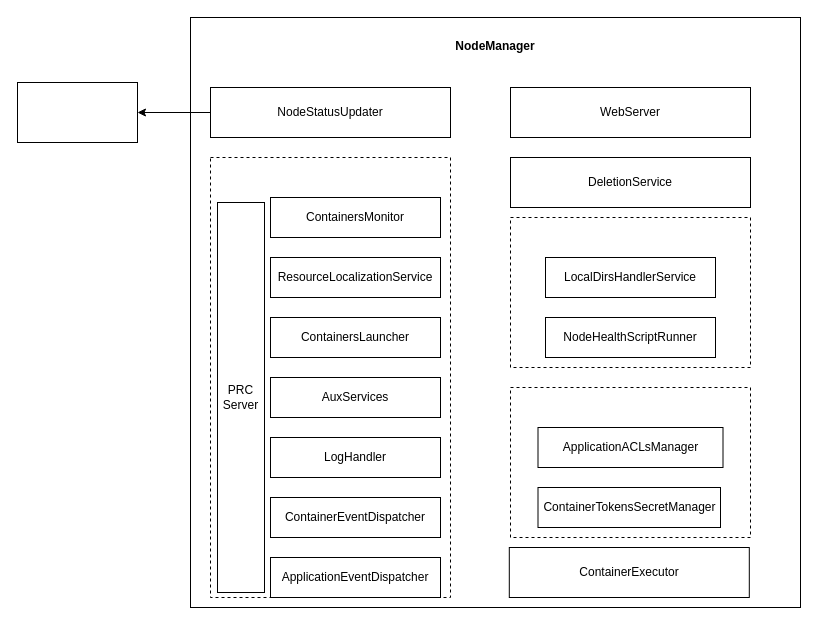
Image size: 818x625. Some labels were removed from this diagram. The box of each missing label's shape, as (x1, y1, x2, y2) in pixels:
ContainerManager: (210, 156, 450, 598)
NodeHealthCheckService: (510, 216, 750, 368)
ResourceManager: (16, 82, 138, 142)
Security: (510, 386, 750, 538)
